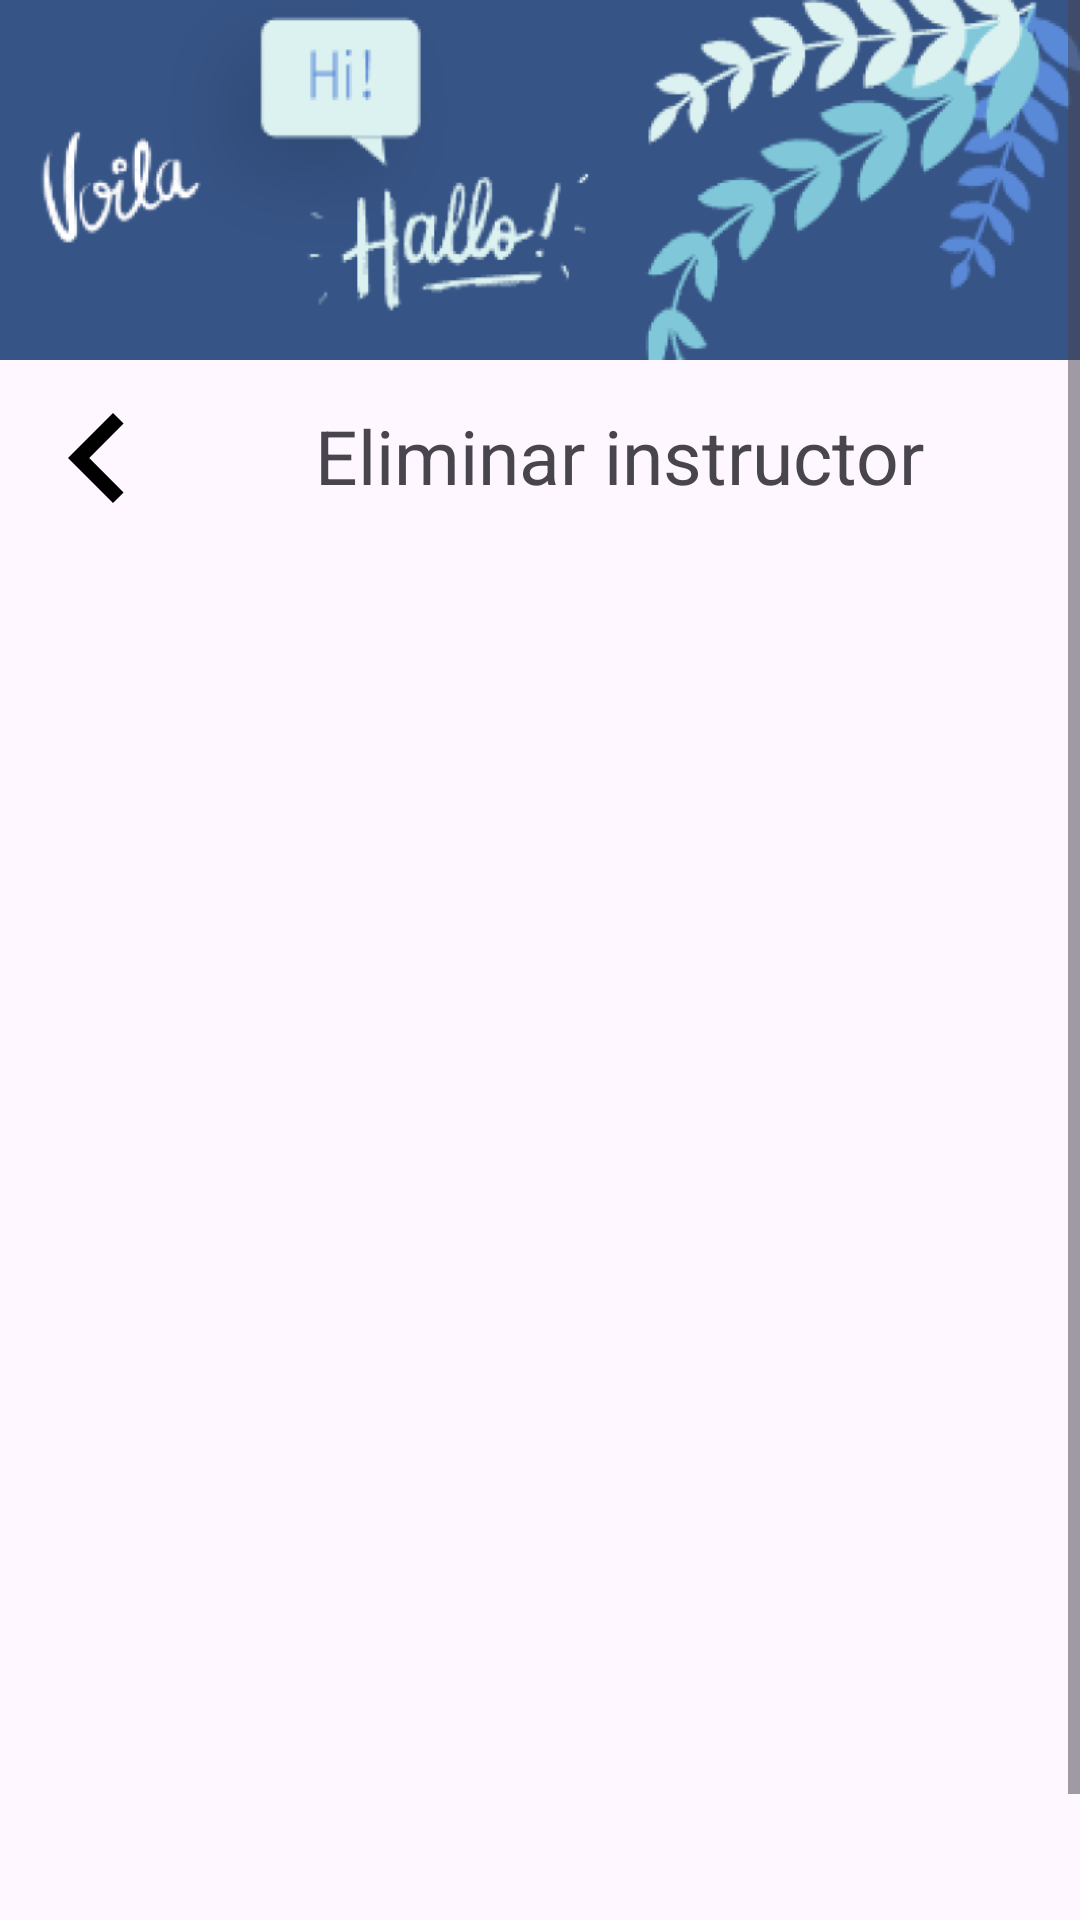

Screen size 1080*1920. Icon name, then its box in pixels as box=[x1, y1, x2, y2]:
chevron left: box=[68, 413, 124, 503]
